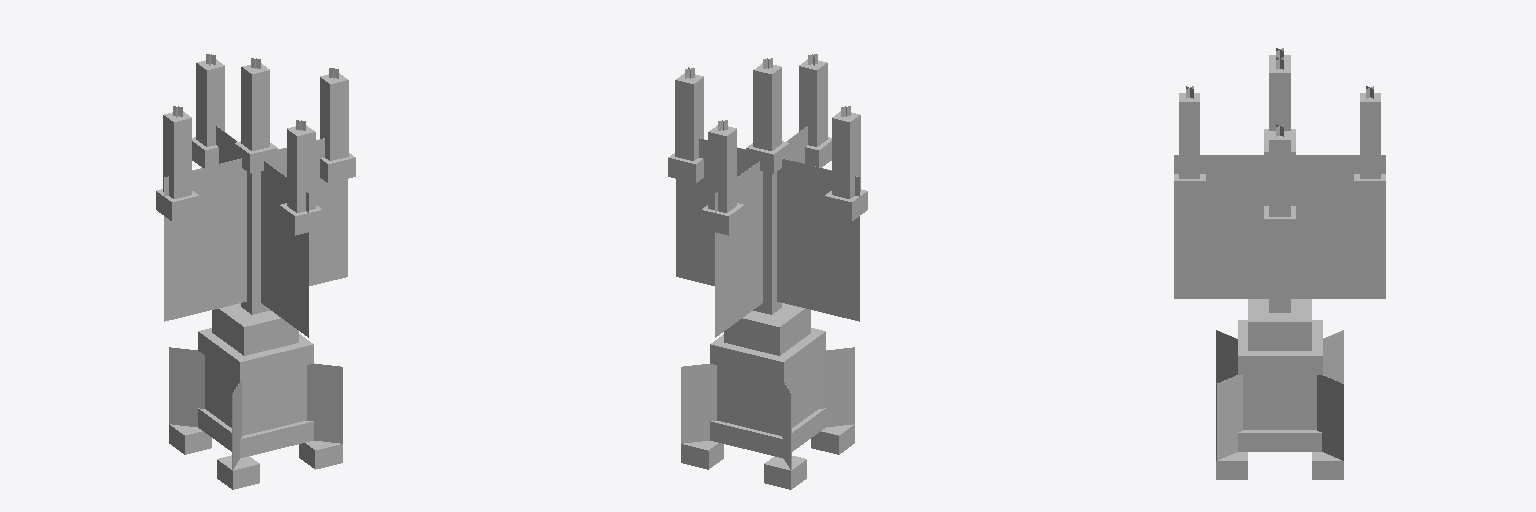
File: cincinnasite_candle_holder.obj
3 views of the same model, side by side, from view 1: azimuth 30°, elevation 25°; view 2: azimuth 150°, elevation 25°; view 3: azimuth 270°, elevation 25° (orthographic).
Parts seen in each view (by area): view 1: group2, group; view 2: group2, group; view 3: group2, group.
Boxes of the visible parts, x1=… form: group2: x1=156, y1=54, x2=355, y2=337; group: x1=169, y1=141, x2=342, y2=489; group2: x1=668, y1=54, x2=867, y2=337; group: x1=681, y1=141, x2=854, y2=489; group2: x1=1174, y1=48, x2=1385, y2=298; group: x1=1216, y1=139, x2=1343, y2=479.
Size of the model in its own units: 1.25 by 2.56 by 1.25.